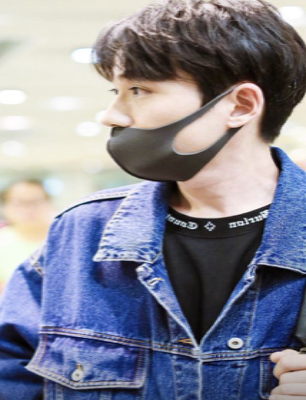mask_weared_incorrect: (100, 72, 220, 182)
